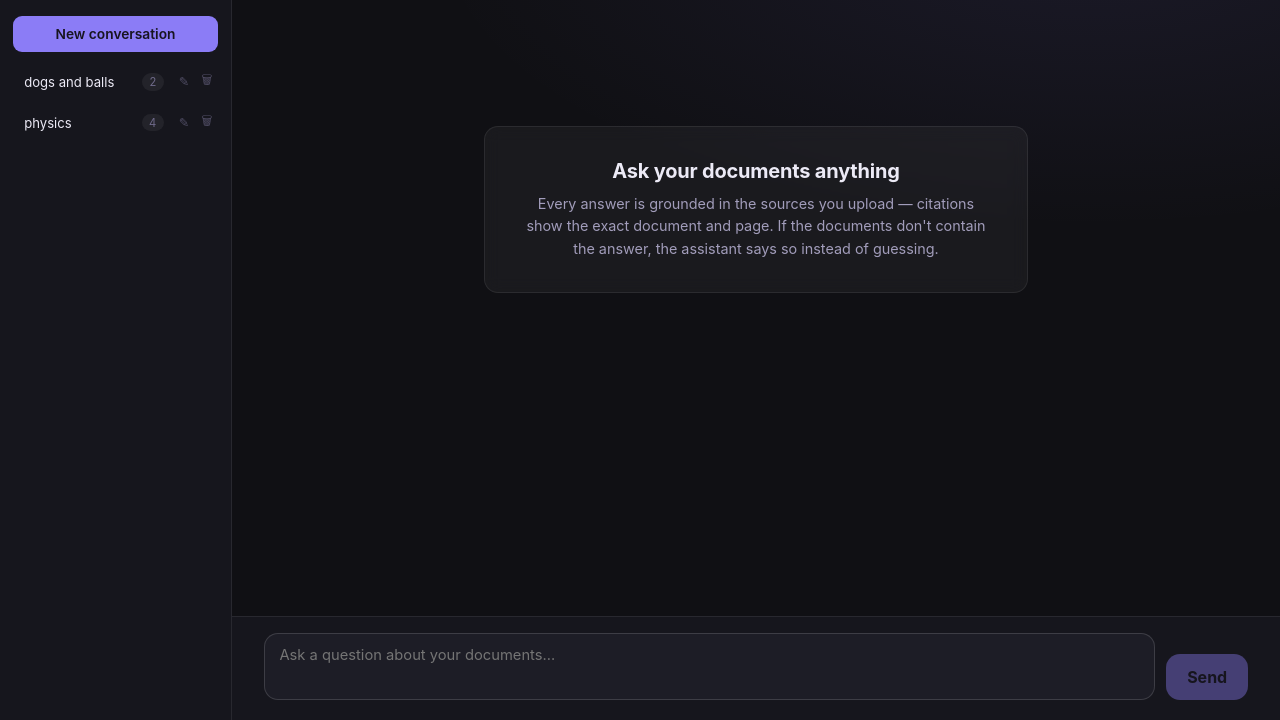
Test: useChats end-to-end streaming (mocked client) › loads a conversation's history on click
Click the text "physics".
click(48, 123)  # box left=24, top=115, right=72, bottom=131
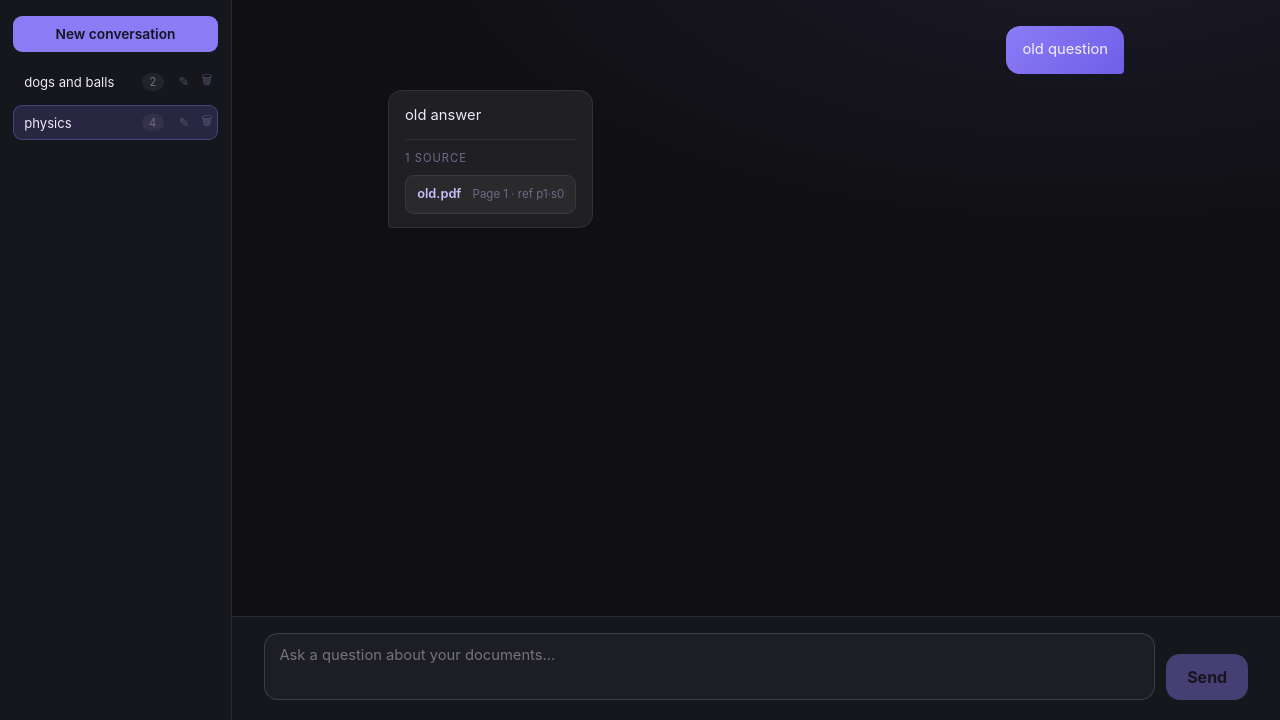
Result: the text "old answer" is shown at left=405, top=106, right=481, bottom=124
Result: the text "old question" is shown at left=1006, top=26, right=1124, bottom=74
Result: the text "old.pdf" is shown at left=417, top=184, right=461, bottom=204
